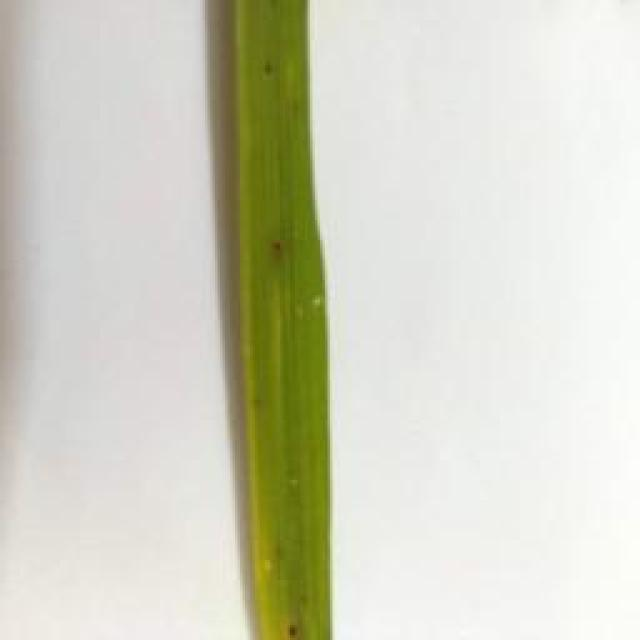Brown_Spot: (258, 57, 285, 86), (266, 235, 290, 262), (284, 614, 304, 640)
